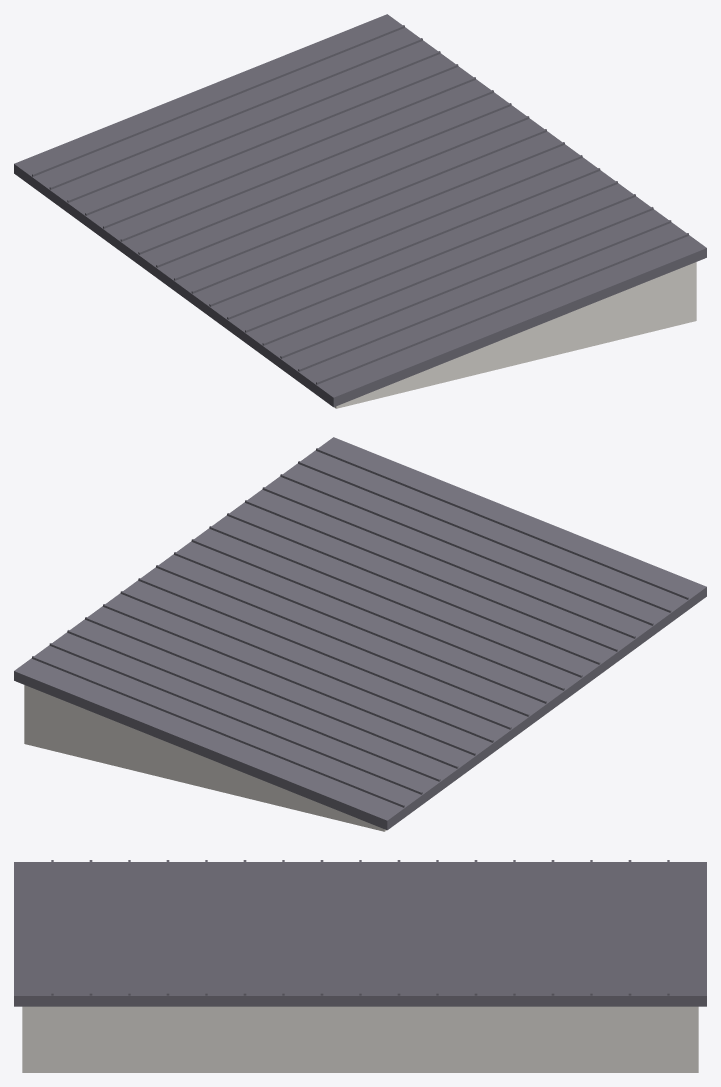
Rendered from SM_Roof_NarrowShedLeft_White_546_01.gltf.
3 renders of one model, top to bottom at view 1: azimuth 30°, elevation 25°; view 2: azimuth 150°, elevation 25°; view 3: azimuth 270°, elevation 25°, orthographic. The views are drawn at different scales.
Parts seen in each view (by area): view 1: SM_Roof_NarrowShedLeft_White_546_01; view 2: SM_Roof_NarrowShedLeft_White_546_01; view 3: SM_Roof_NarrowShedLeft_White_546_01.
Boxes of the visible parts, <box> form: SM_Roof_NarrowShedLeft_White_546_01: <box>14,14,706,408</box>; SM_Roof_NarrowShedLeft_White_546_01: <box>14,437,706,831</box>; SM_Roof_NarrowShedLeft_White_546_01: <box>14,860,706,1072</box>.
Bounding box in the file's own units: 5.66 × 1.1 × 8.39.
Materials: 1 (1 with a texture image).
